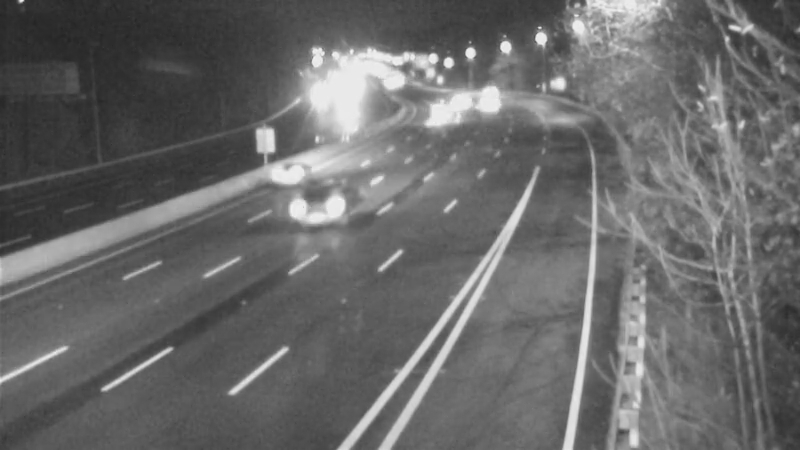vehicle: (247, 132, 327, 212), (291, 160, 371, 240), (463, 66, 513, 116), (434, 74, 484, 124), (464, 79, 514, 129), (414, 84, 464, 134), (419, 94, 469, 144)
